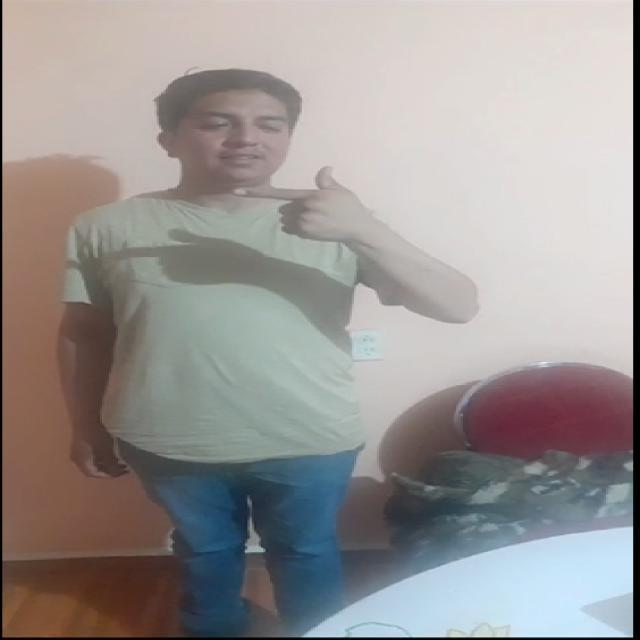G: (202, 157, 404, 257)
